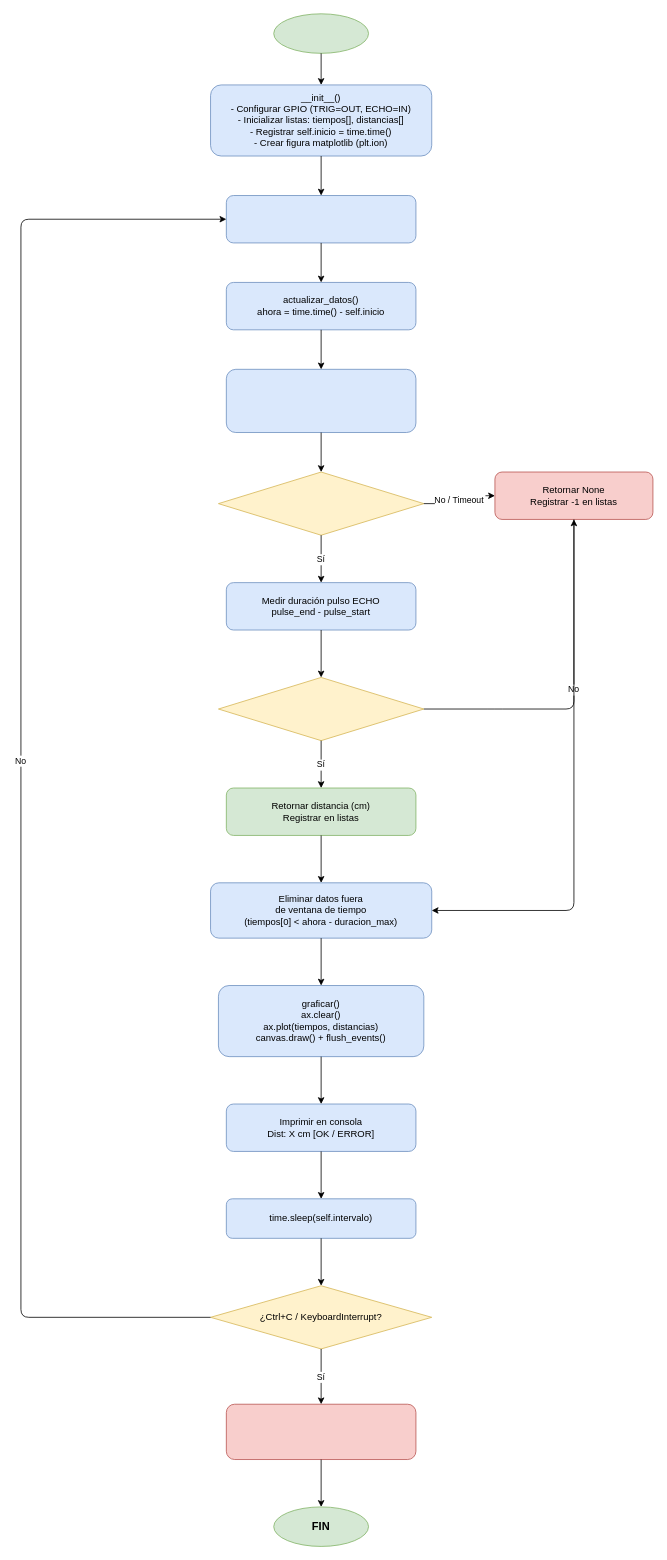
This 667x1560 diagram has some shape labels left out. Here are the shapes that lost their labels. From the top down, the centre of each, then its label:
At [321,33]: "INICIO".
At [321,219]: "ejecutar() Inicio del bucle principal".
At [321,401]: "leer_distancia() GPIO TRIG → LOW (60ms) GPIO TRIG → HIGH (15µs) GPIO TRIG → LOW".
At [321,503]: "¿ECHO en HIGH antes de 200ms?".
At [321,709]: "¿Distancia entre 0 y 400 cm?".
At [321,1431]: "finally: GPIO.cleanup() plt.close()".
